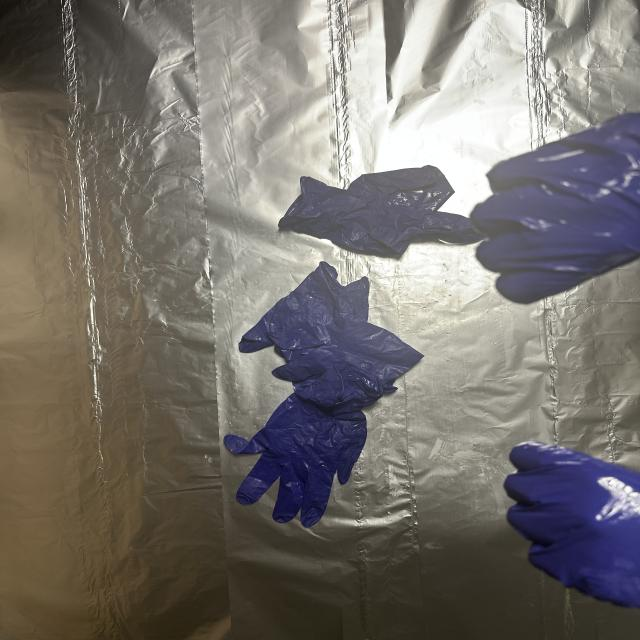gloves_contaminated: (471, 114, 640, 304), (504, 441, 640, 607)
